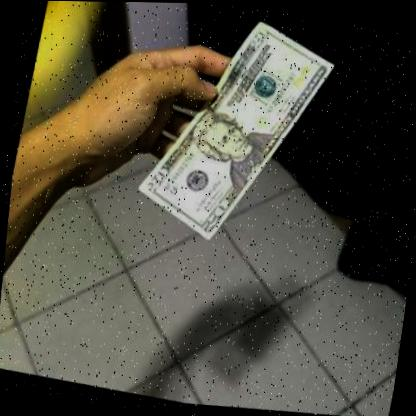twenty-front: (113, 1, 349, 274)
